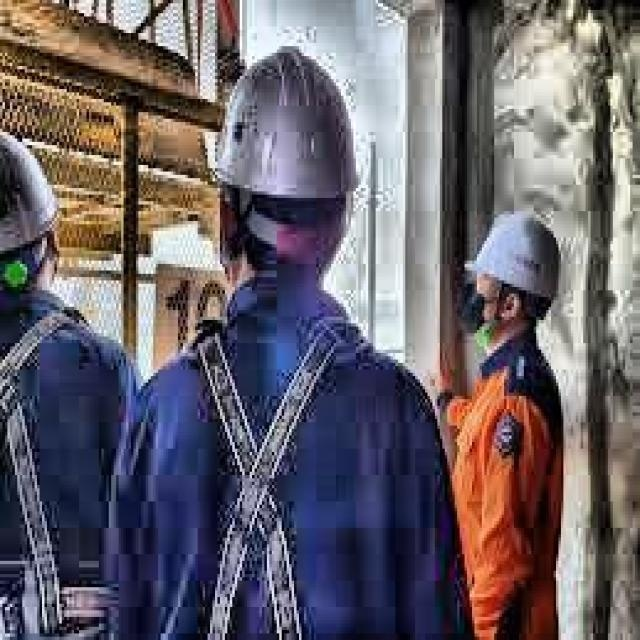Arnes_seguridad: (168, 290, 381, 640)
